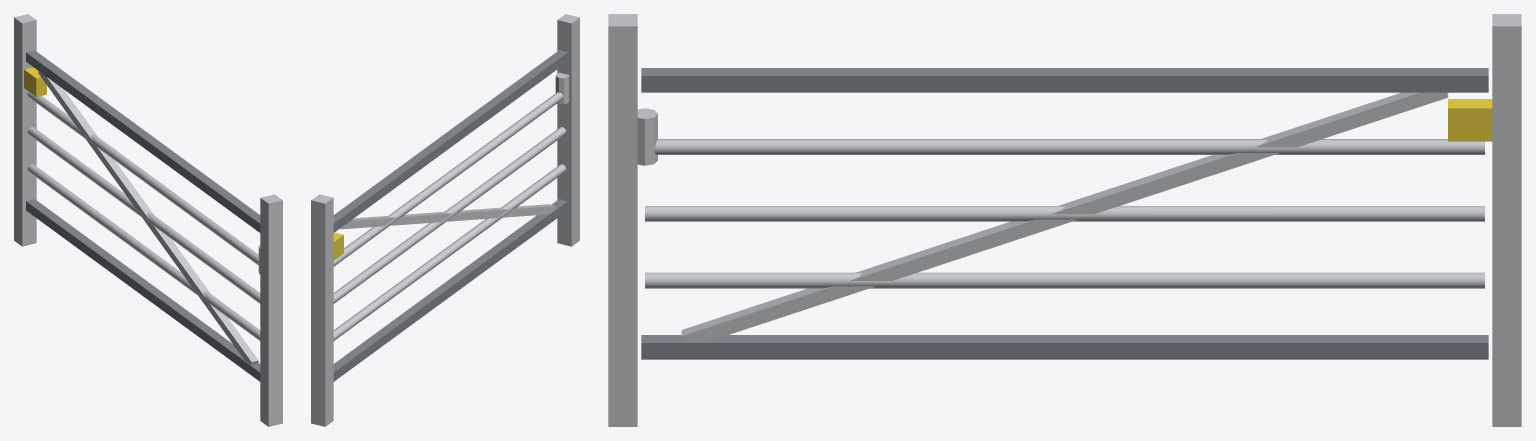
The model's file is SM_PEN_GATE.fbx.
The picture shows the model from 3 angles, left to right: view 1: azimuth 30°, elevation 25°; view 2: azimuth 150°, elevation 25°; view 3: azimuth 270°, elevation 25°; orthographic projection. The views are drawn at different scales.
Visible parts, largest first — view 1: SM_PEN_GATE; view 2: SM_PEN_GATE; view 3: SM_PEN_GATE.
Part boxes in pixels (<box>): SM_PEN_GATE: <box>14,14,282,426</box>; SM_PEN_GATE: <box>311,14,579,426</box>; SM_PEN_GATE: <box>608,14,1521,426</box>.
Size of the model in its own units: 8 by 120 by 248.
